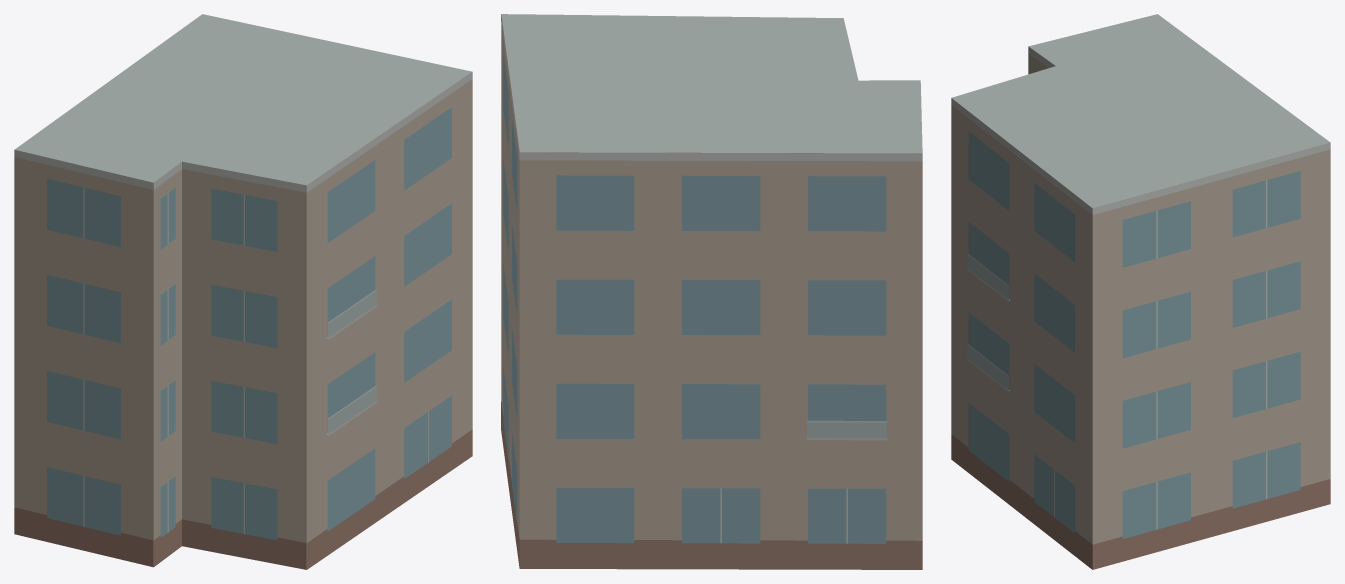
Rendered from survey-upis-32966678.glb.
3 renders of one model, left to right at view 1: azimuth 30°, elevation 25°; view 2: azimuth 150°, elevation 25°; view 3: azimuth 270°, elevation 25°, orthographic. The views are drawn at different scales.
Visible parts, largest first — view 1: survey-upis-32966678.tmp; view 2: survey-upis-32966678.tmp; view 3: survey-upis-32966678.tmp.
Part boxes in pixels (box(x1,y1,x2,y2)): survey-upis-32966678.tmp: box(14, 14, 472, 569); survey-upis-32966678.tmp: box(501, 14, 922, 569); survey-upis-32966678.tmp: box(951, 14, 1330, 569).
Bounding box in the file's own units: 14.82 × 12.85 × 12.23.
